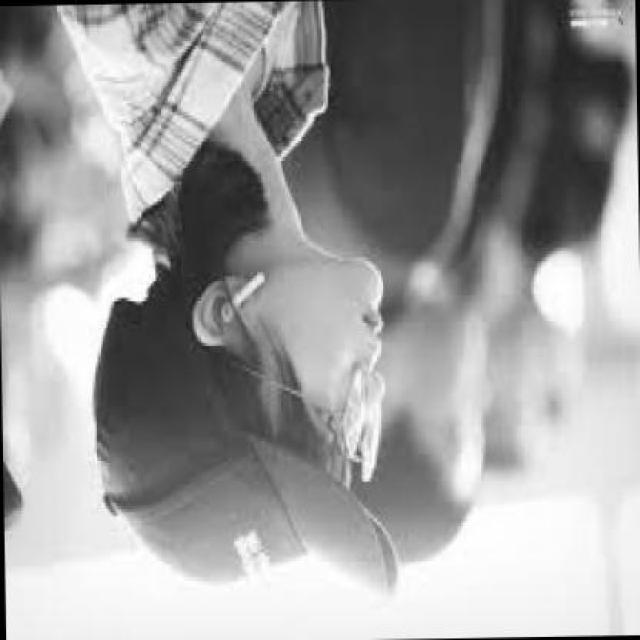earphone: (221, 259, 284, 340)
